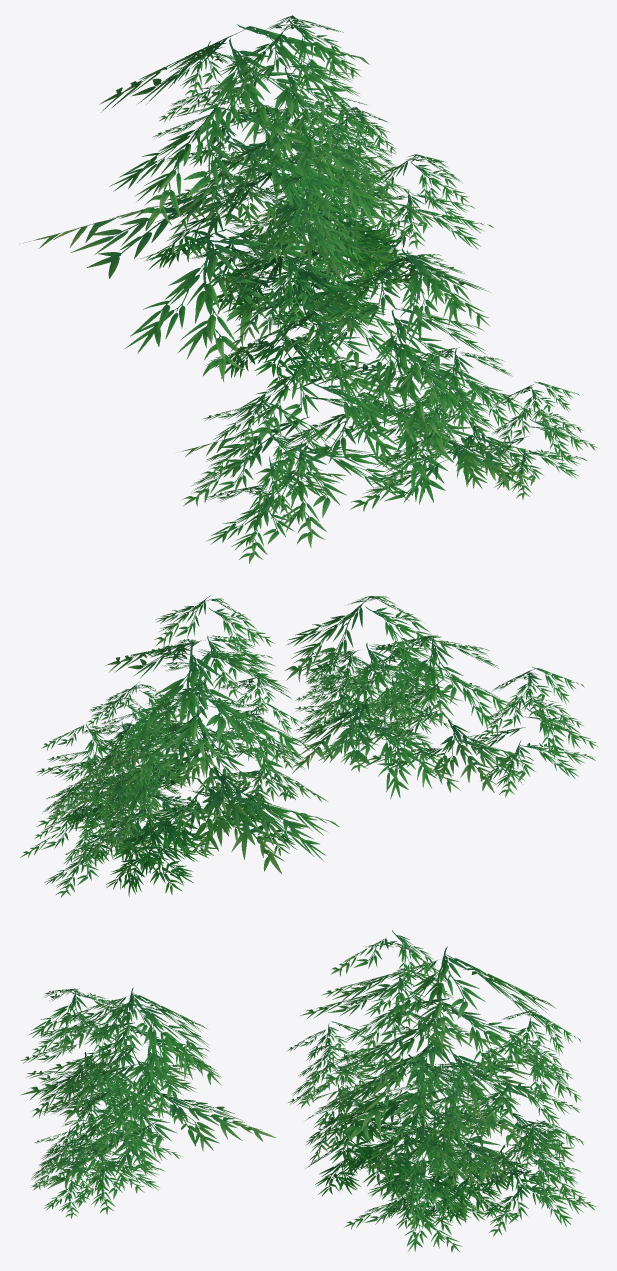
The model's file is Area_09_22.fbx.
3 views of the same model, one above another, from view 1: azimuth 30°, elevation 25°; view 2: azimuth 150°, elevation 25°; view 3: azimuth 270°, elevation 25° (orthographic). The views are drawn at different scales.
Parts seen in each view (by area): view 1: Area_09_22; view 2: Area_09_22; view 3: Area_09_22.
Part boxes in pixels (<box>): Area_09_22: <box>19,15,598,563</box>; Area_09_22: <box>20,595,598,897</box>; Area_09_22: <box>20,930,597,1252</box>.
Size of the model in its own units: 2766 by 1672 by 3319.
